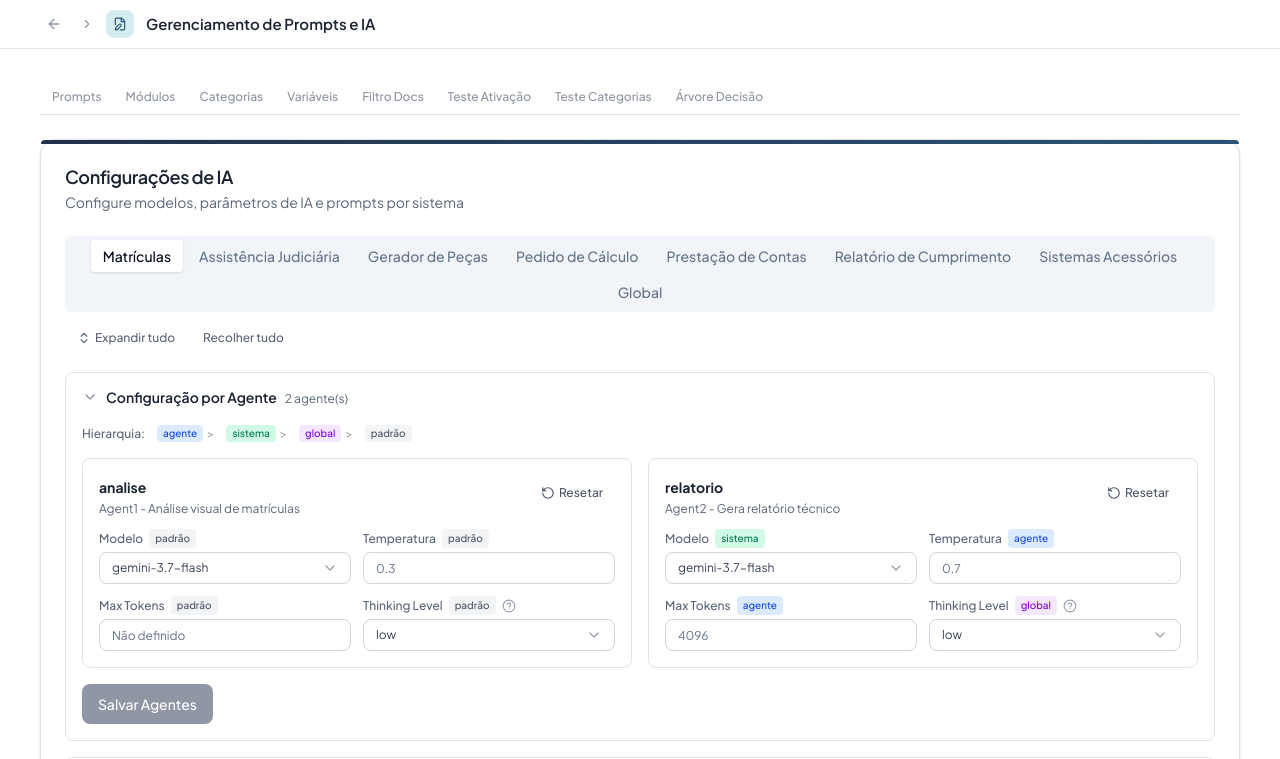
Test: PromptsPage › deve alternar para aba Gerador de Peças e carregar agentes
What coordinates should you click on to do the following:
click the tab "Gerador de Peças"
I would click on:
 (428, 256)
Its box is 356,240 -> 500,272.
(page scrolled)
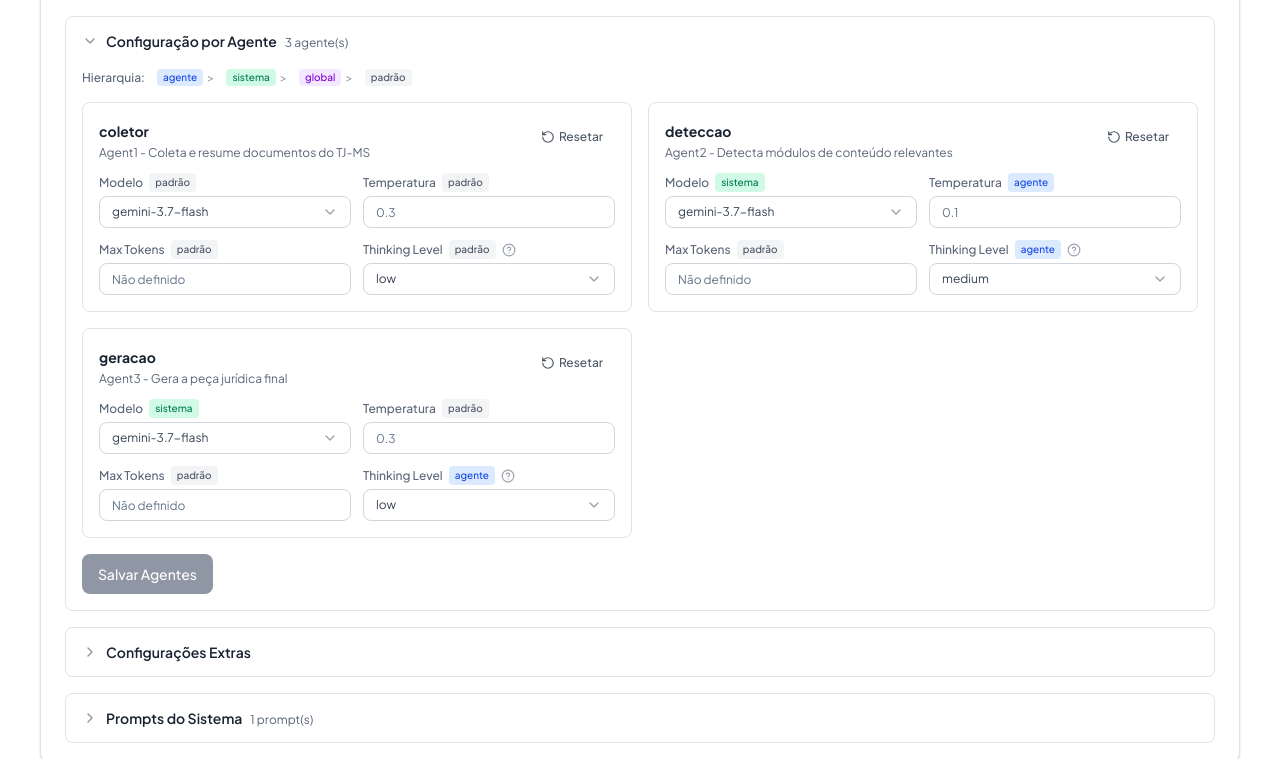
Result: the element with test id "agent-card-coletor" is shown at 82,102 -> 632,312
Result: the element with test id "agent-card-deteccao" is shown at 648,102 -> 1198,312
Result: the element with test id "agent-card-geracao" is shown at 82,328 -> 632,538
